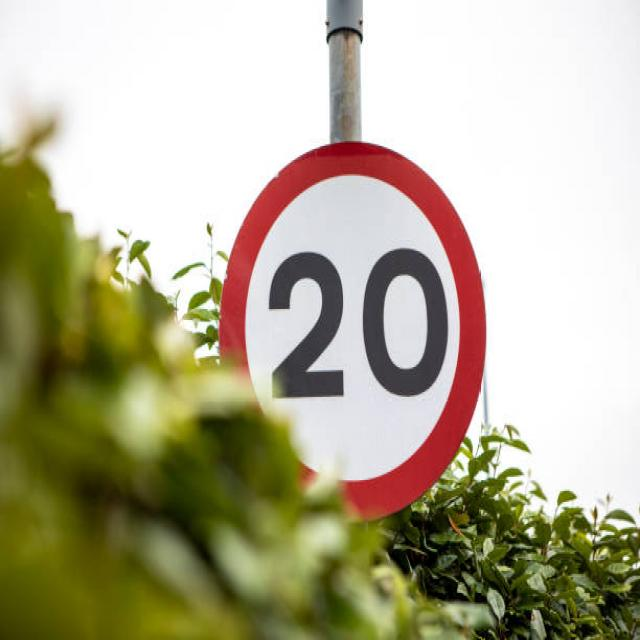speed_limit_20: (219, 133, 487, 518)
